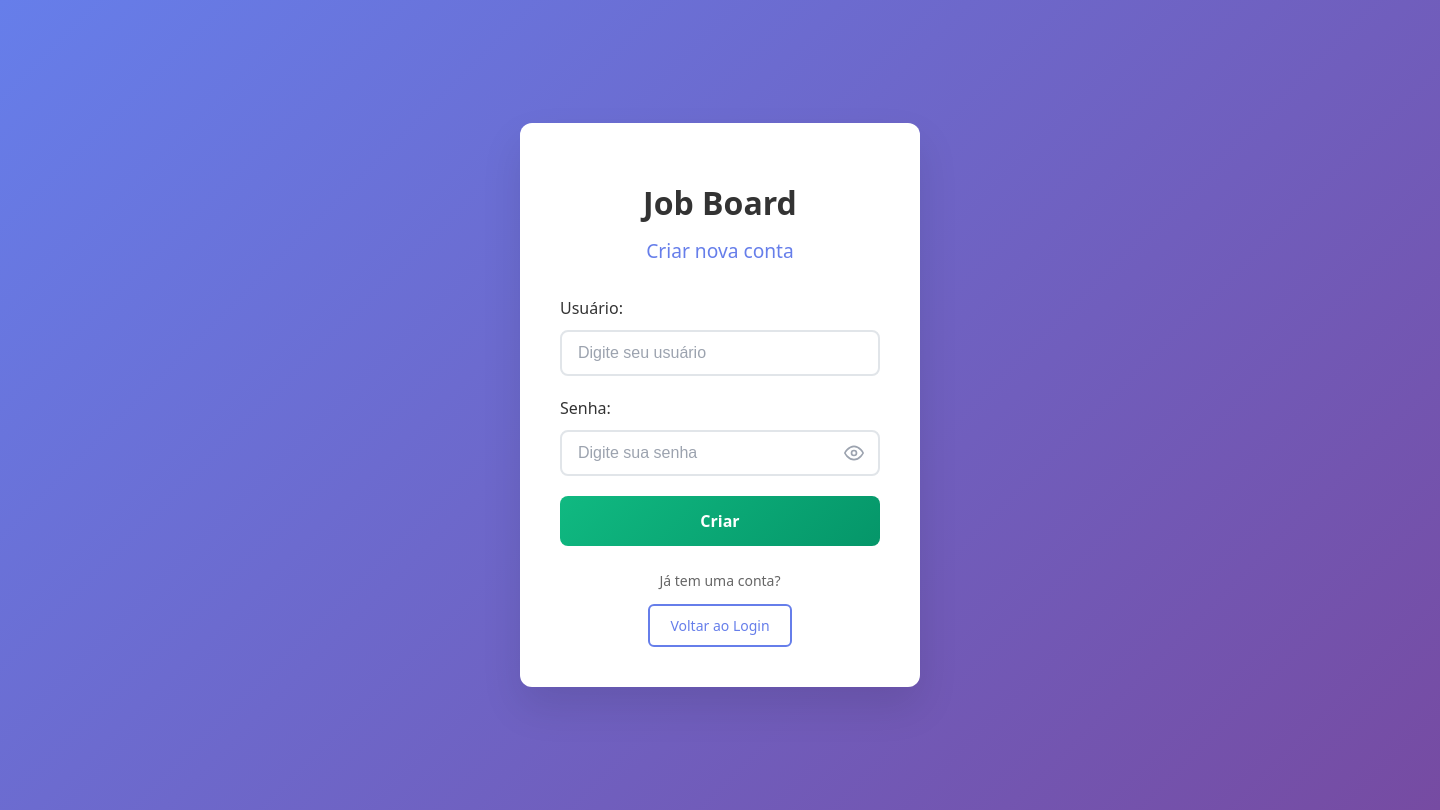
Test: Register › shows error when submitting with only username
Type "testuser" into the field labelled "Usuário:" at (720, 353), box 560,330 -> 880,376
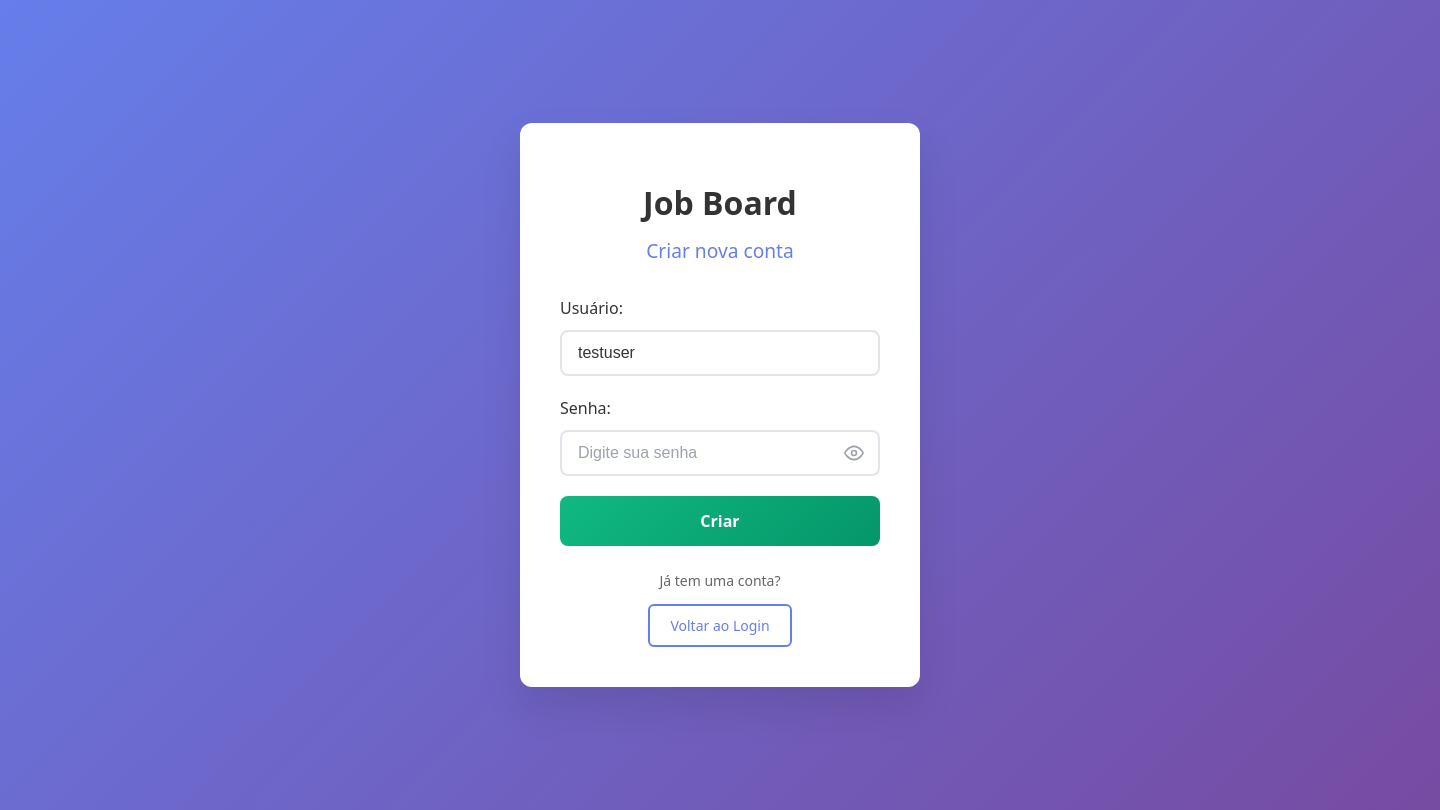
Click the button "Criar" at (720, 520), box 560,496 -> 880,546
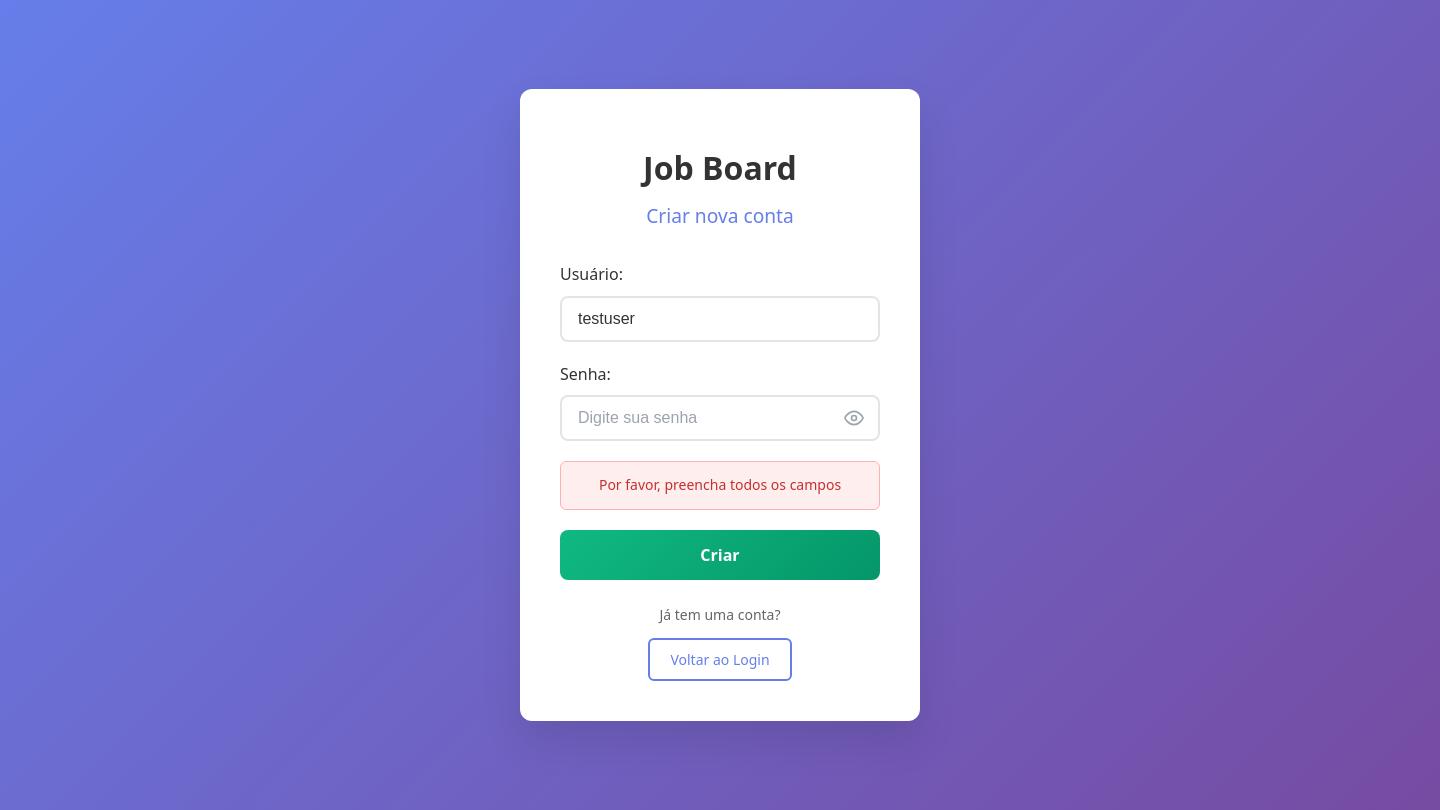
Expected: the text "Por favor, preencha todos os campos" is shown, 560,461 -> 880,510
